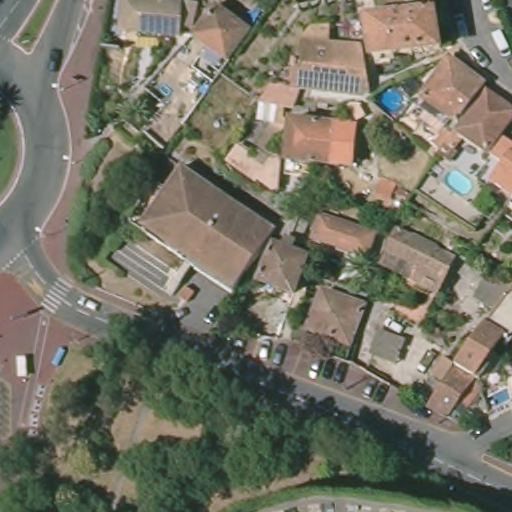pool: (442, 168, 475, 196), (379, 86, 406, 112), (486, 388, 512, 408), (191, 72, 212, 96), (156, 83, 175, 96)
